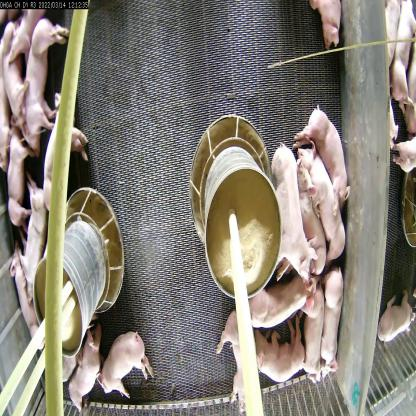Pig: (13, 13, 74, 158), (271, 144, 320, 293), (304, 92, 351, 220), (40, 96, 84, 228), (220, 325, 309, 390), (294, 155, 345, 267), (316, 258, 361, 378), (14, 167, 53, 303), (242, 275, 335, 330), (100, 314, 147, 414), (294, 282, 332, 388), (60, 329, 103, 413)
